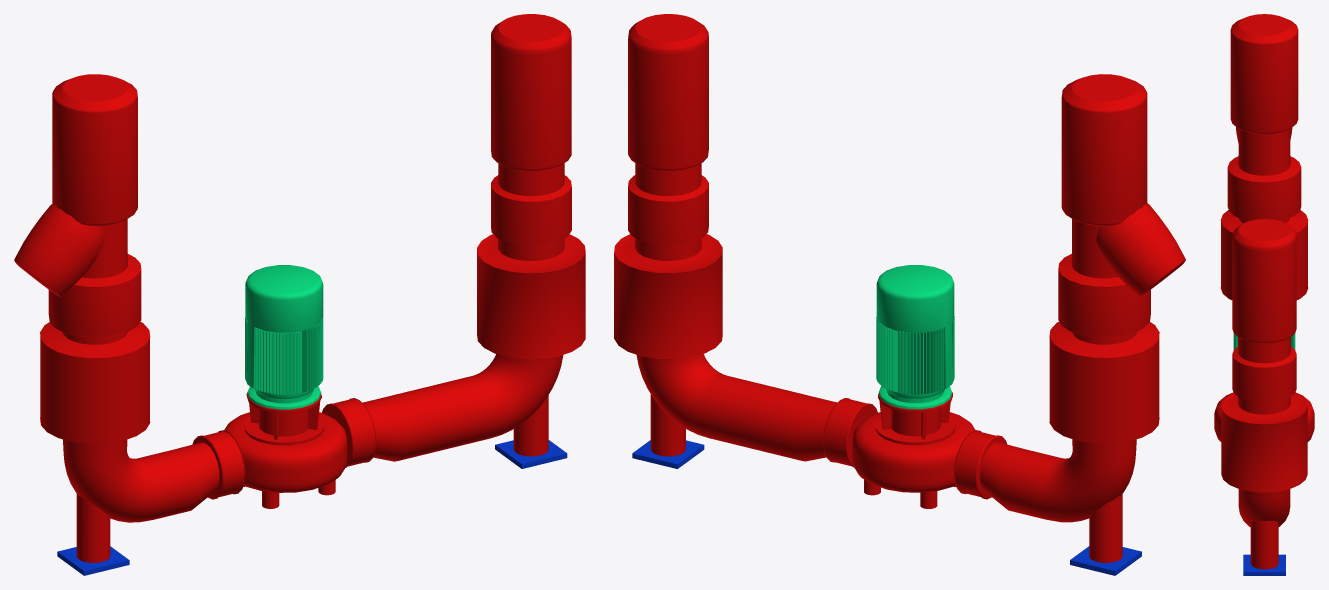
File: Chiller Water Heat Exchanger pump_re.fbx
The picture shows the model from 3 angles, left to right: view 1: azimuth 30°, elevation 25°; view 2: azimuth 150°, elevation 25°; view 3: azimuth 270°, elevation 25°; orthographic projection. The views are drawn at different scales.
Visible parts, largest first — view 1: Chiller Water Heat Exchanger pump_#1; view 2: Chiller Water Heat Exchanger pump_#1; view 3: Chiller Water Heat Exchanger pump_#1.
Boxes of the visible parts, box(x1,y1,x2,y2) form: Chiller Water Heat Exchanger pump_#1: box(14, 14, 585, 575); Chiller Water Heat Exchanger pump_#1: box(614, 14, 1185, 575); Chiller Water Heat Exchanger pump_#1: box(1214, 14, 1314, 575).
Size of the model in its own units: 3128 by 2524 by 615.
